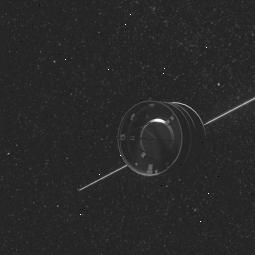double_start: (106, 84, 220, 195)
